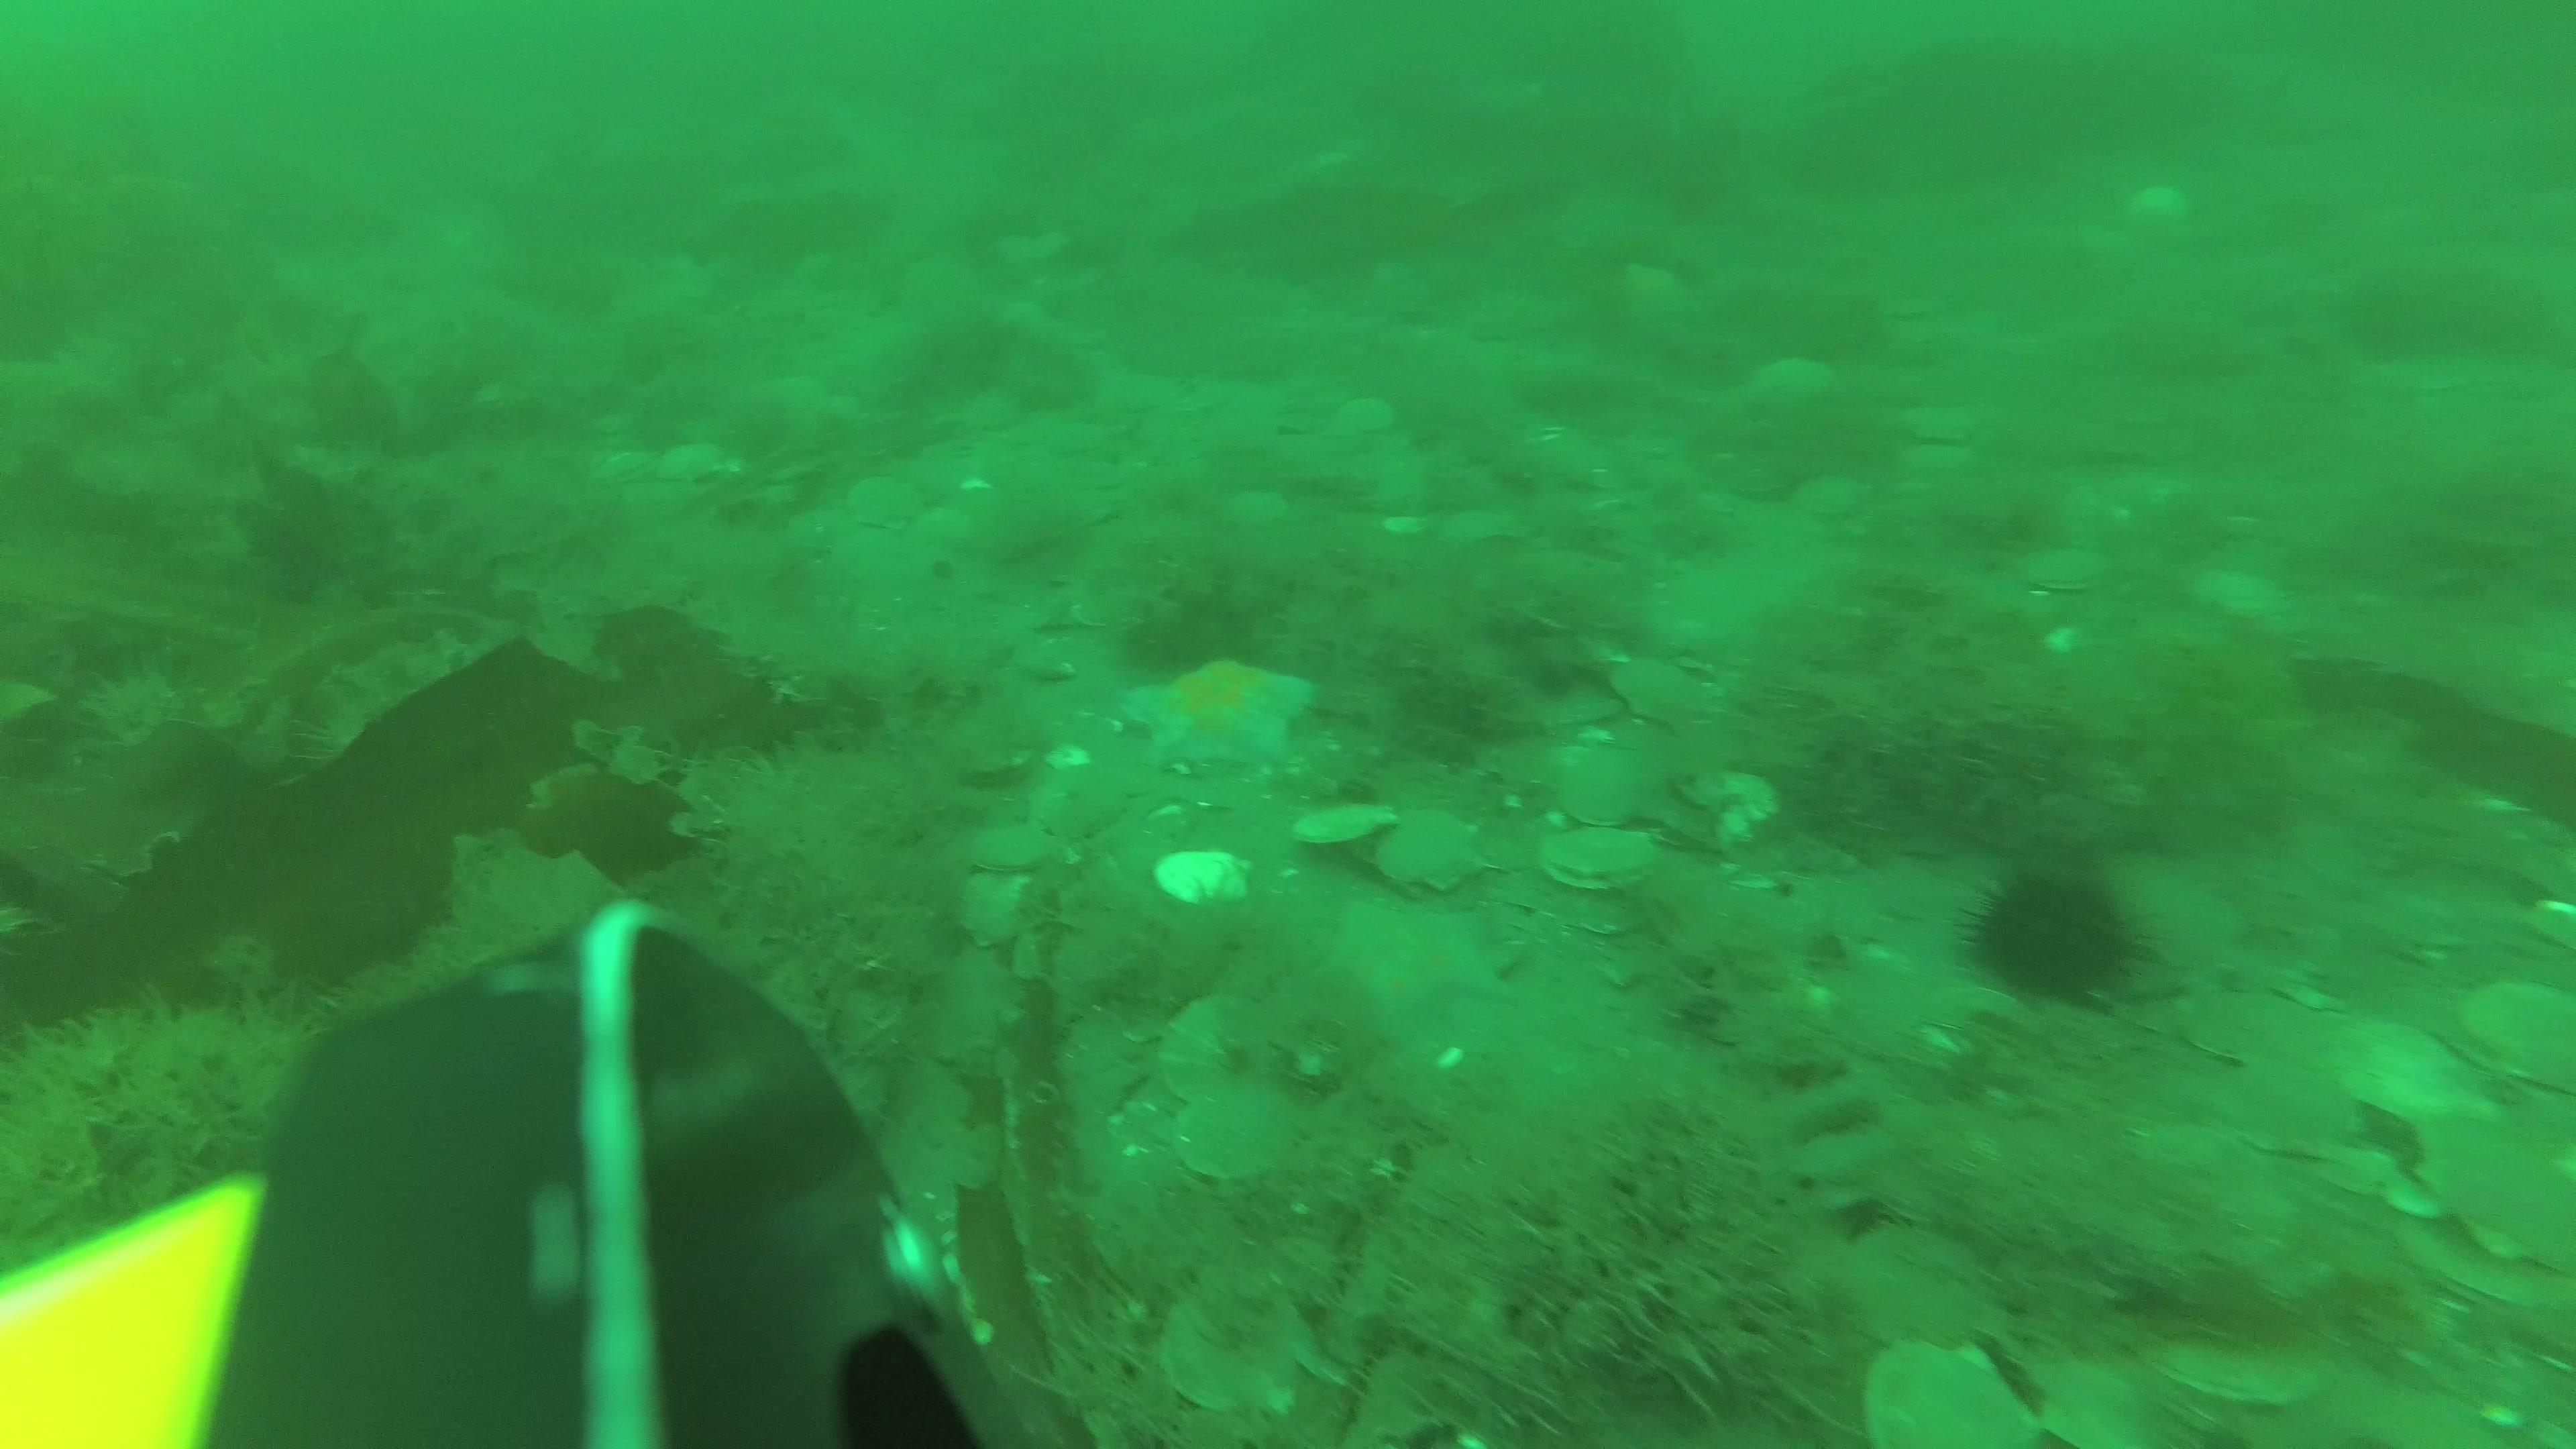echinus: (1960, 855, 2148, 1012)
scallop: (2410, 1113, 2576, 1286), (1154, 1274, 1332, 1417), (2141, 1309, 2348, 1424), (1858, 1323, 2036, 1449), (2327, 1012, 2505, 1131), (1845, 1215, 1992, 1343), (2187, 1065, 2367, 1166), (2450, 962, 2576, 1100), (1168, 1079, 1325, 1187), (2185, 962, 2339, 1069), (1159, 978, 1281, 1108), (1376, 801, 1491, 897), (1663, 773, 1780, 853), (1541, 821, 1663, 895), (1552, 736, 1647, 824), (2181, 557, 2289, 632), (954, 863, 1035, 955), (1610, 651, 1707, 727), (1148, 847, 1263, 911), (2017, 536, 2123, 600), (1288, 801, 1405, 853), (648, 428, 740, 492), (1905, 391, 1992, 455), (842, 469, 922, 538), (966, 821, 1062, 878), (1787, 464, 1875, 524), (1334, 386, 1403, 446)
starfish: (1311, 892, 1541, 1074), (1122, 644, 1323, 775)
